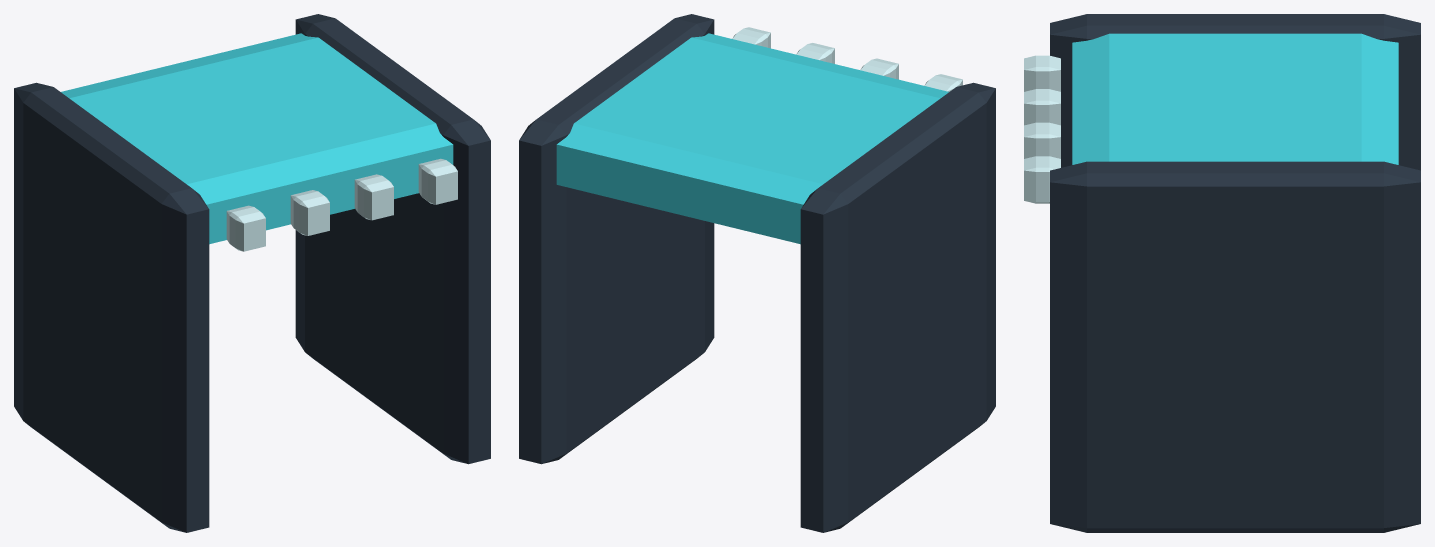
Rendered from FinishMarker.fbx.
3 renders of one model, left to right at view 1: azimuth 30°, elevation 25°; view 2: azimuth 150°, elevation 25°; view 3: azimuth 270°, elevation 25°, orthographic. The views are drawn at different scales.
Visible parts, largest first — view 1: FinishPylon, FinishPylon.001, FinishHeader, FinishStripe, FinishStripe.002, FinishStripe.001, FinishStripe.003; view 2: FinishPylon, FinishPylon.001, FinishHeader; view 3: FinishPylon.001, FinishHeader, FinishPylon, FinishStripe.003, FinishStripe.002, FinishStripe, FinishStripe.001.
Part boxes in pixels (x1=…): FinishPylon: x1=14, y1=82, x2=209, y2=532; FinishPylon.001: x1=295, y1=14, x2=490, y2=464; FinishHeader: x1=61, y1=33, x2=453, y2=244; FinishStripe: x1=226, y1=205, x2=265, y2=251; FinishStripe.002: x1=354, y1=174, x2=393, y2=220; FinishStripe.001: x1=290, y1=190, x2=329, y2=235; FinishStripe.003: x1=418, y1=158, x2=457, y2=204; FinishPylon: x1=800, y1=82, x2=995, y2=532; FinishPylon.001: x1=519, y1=14, x2=714, y2=464; FinishHeader: x1=556, y1=33, x2=948, y2=244; FinishPylon.001: x1=1050, y1=161, x2=1420, y2=532; FinishHeader: x1=1072, y1=33, x2=1398, y2=164; FinishPylon: x1=1050, y1=14, x2=1420, y2=170; FinishStripe.003: x1=1024, y1=156, x2=1060, y2=203; FinishStripe.002: x1=1024, y1=122, x2=1060, y2=158; FinishStripe: x1=1024, y1=55, x2=1060, y2=91; FinishStripe.001: x1=1024, y1=89, x2=1060, y2=125.
Bounding box in the file's own units: 1 × 1 × 1.
